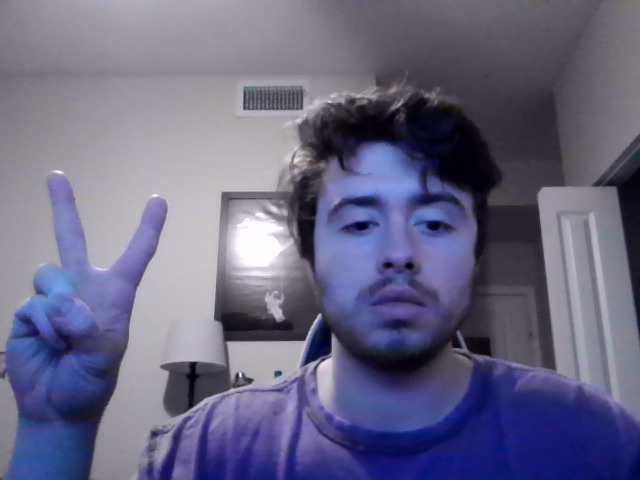v: (5, 170, 168, 448)
